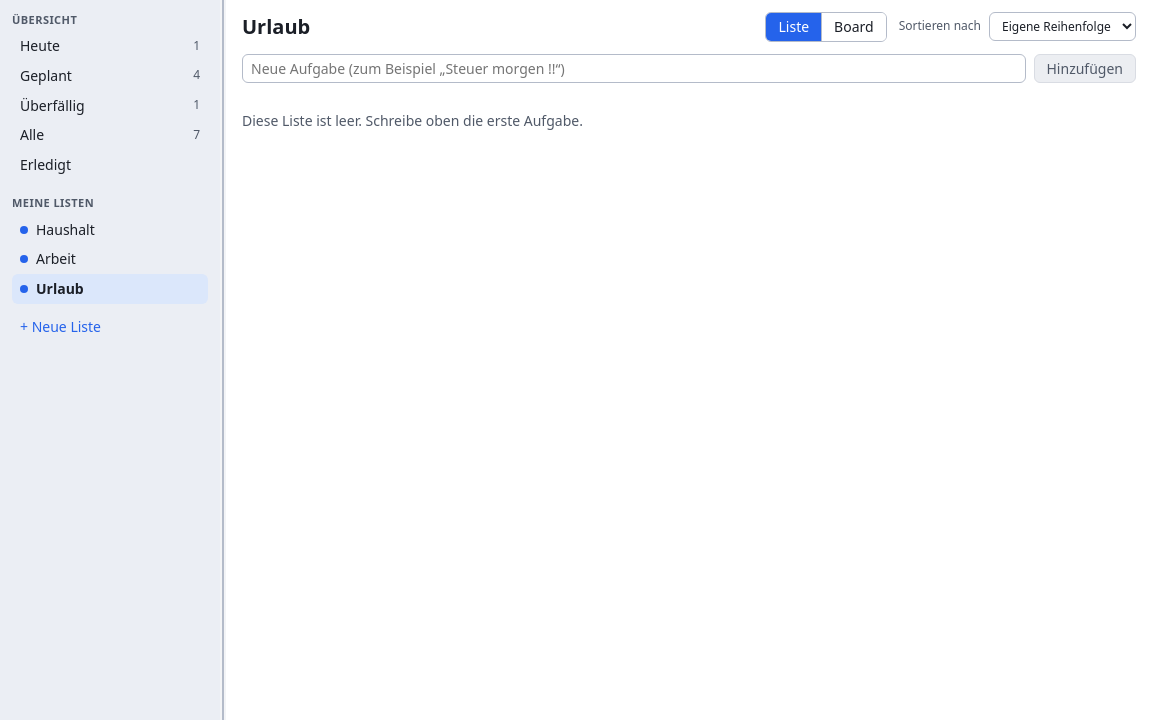
Test case: Aufgabenbereich › legt eine Liste an, benennt sie um und löscht sie nach Rückfrage
This screenshot has width=1152, height=720.
Earlier steps of the test are not shown.
expect the heading "Urlaub" is shown: met, box [242,13,310,40]
expect the text "Diese Liste ist leer. Schreibe oben die erste Aufgabe." is shown: met, box [242,111,583,130]
Right-click the button "Urlaub".
right_click(110, 289)  # box [12,274,208,304]
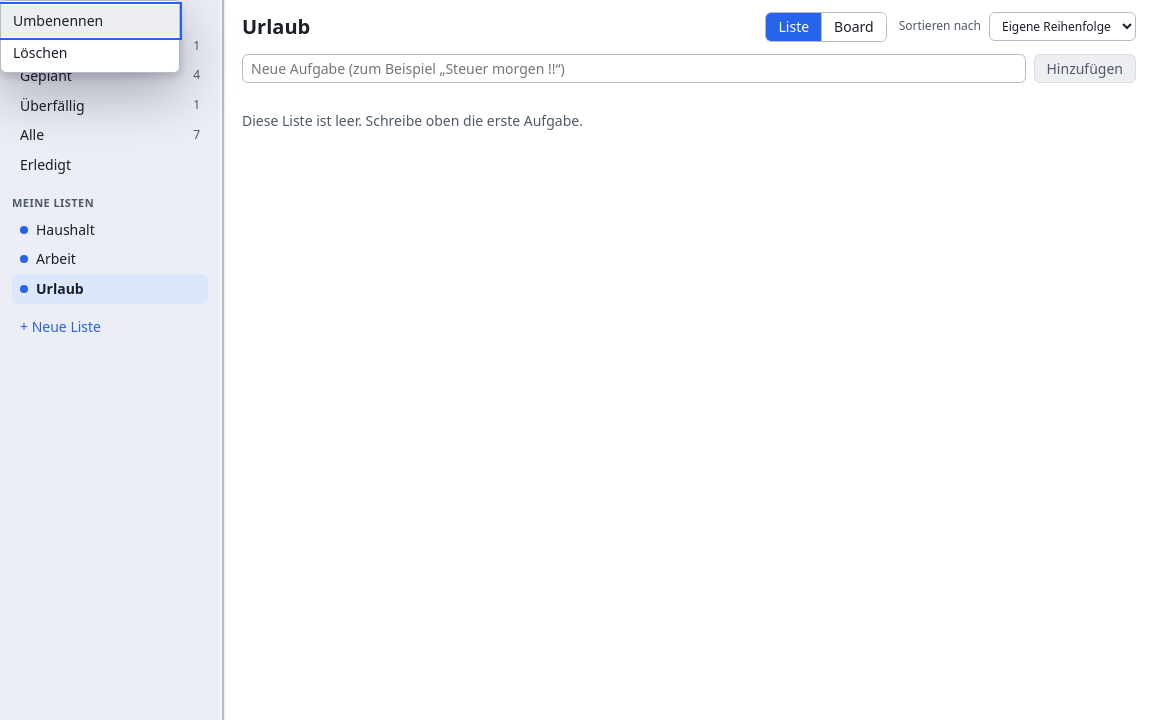
Click the menu item "Umbenennen".
click(90, 21)  # box [1,5,179,37]
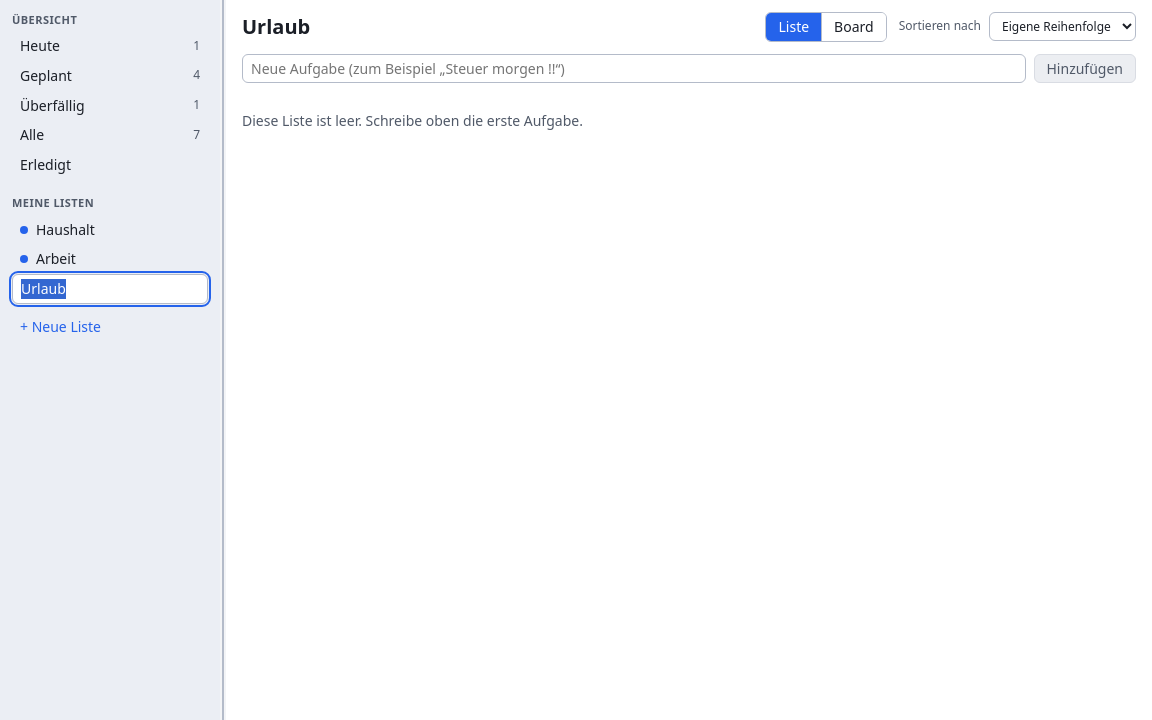
Replace the text in the field named "Neuer Name von Urlaub" with "Ferien" at (110, 289), box [12,274,208,304]
Press Enter in the field named "Neuer Name von Urlaub", box [12,274,208,304]
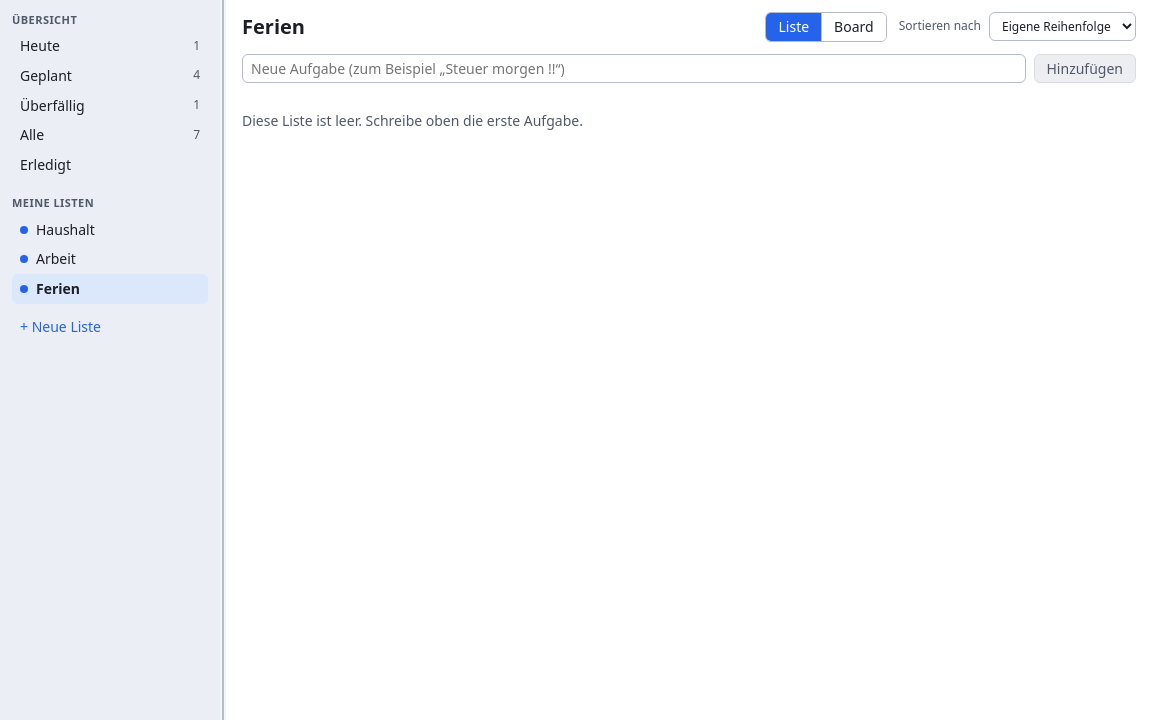
expect the heading "Ferien" is shown: met, box [242,13,305,40]
Right-click the button "Ferien".
right_click(110, 289)  # box [12,274,208,304]
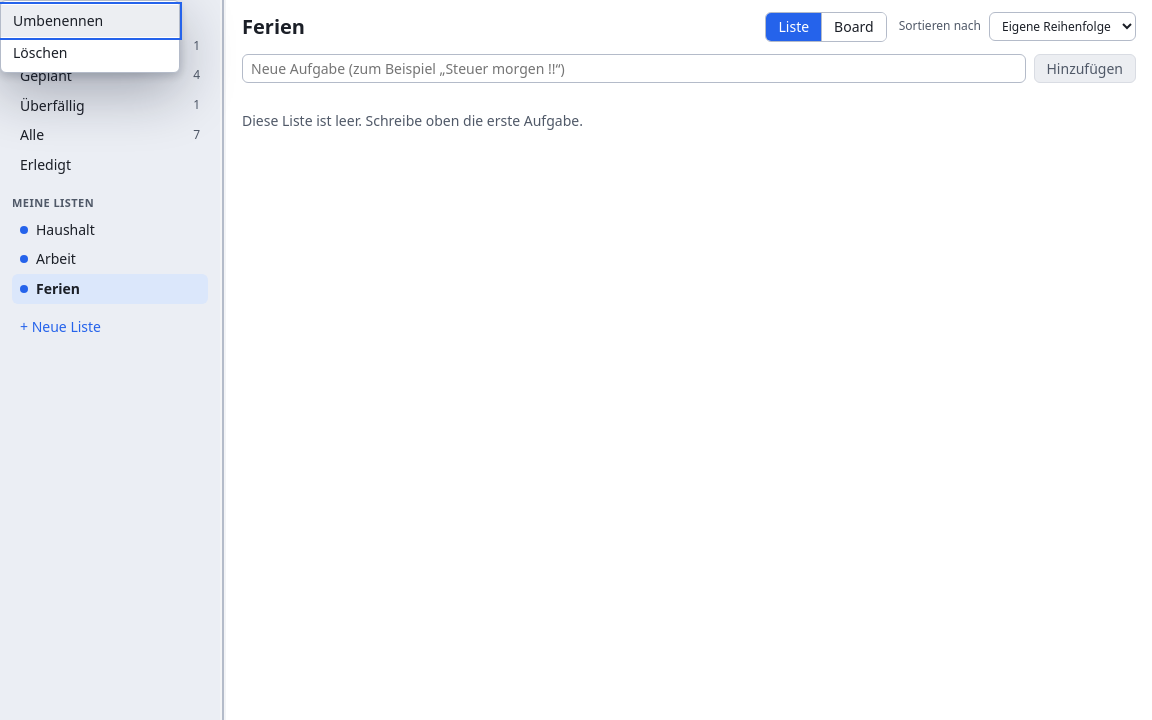
Click the menu item "Löschen".
click(90, 52)  # box [1,37,179,68]
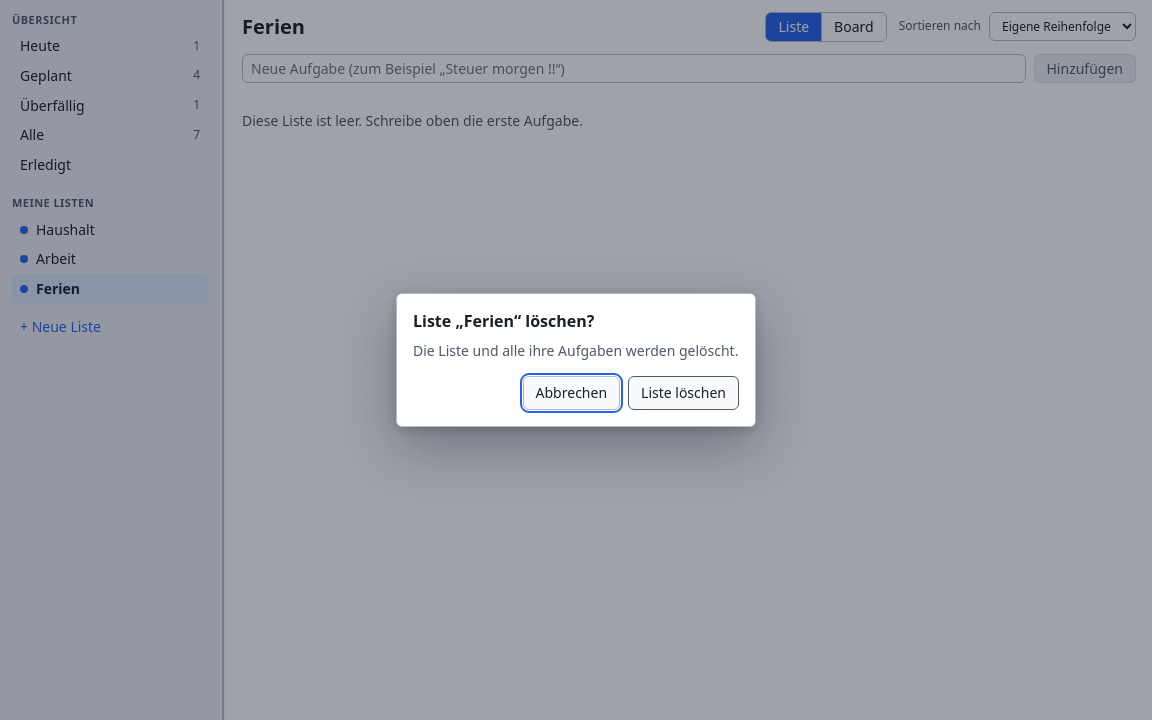
Click the button "Liste löschen".
click(684, 393)  # box [628,376,739,410]
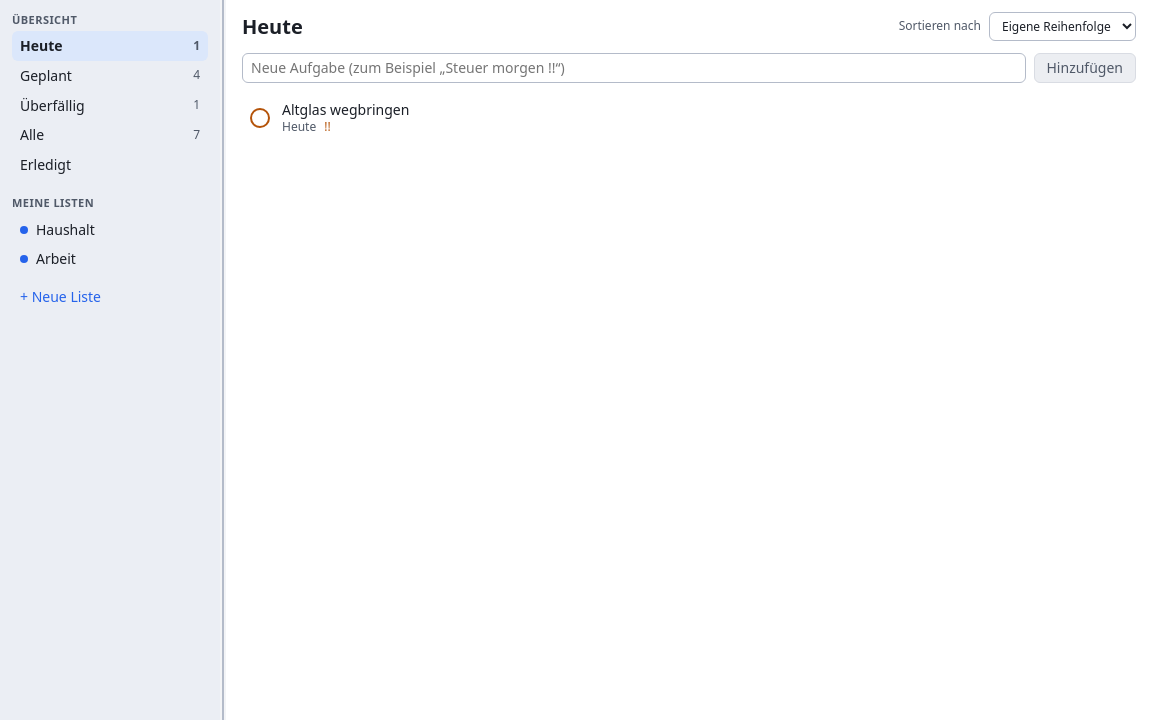
expect the button "Ferien" is gone: met
expect the heading "Heute" is shown: met, box [242,12,303,40]
